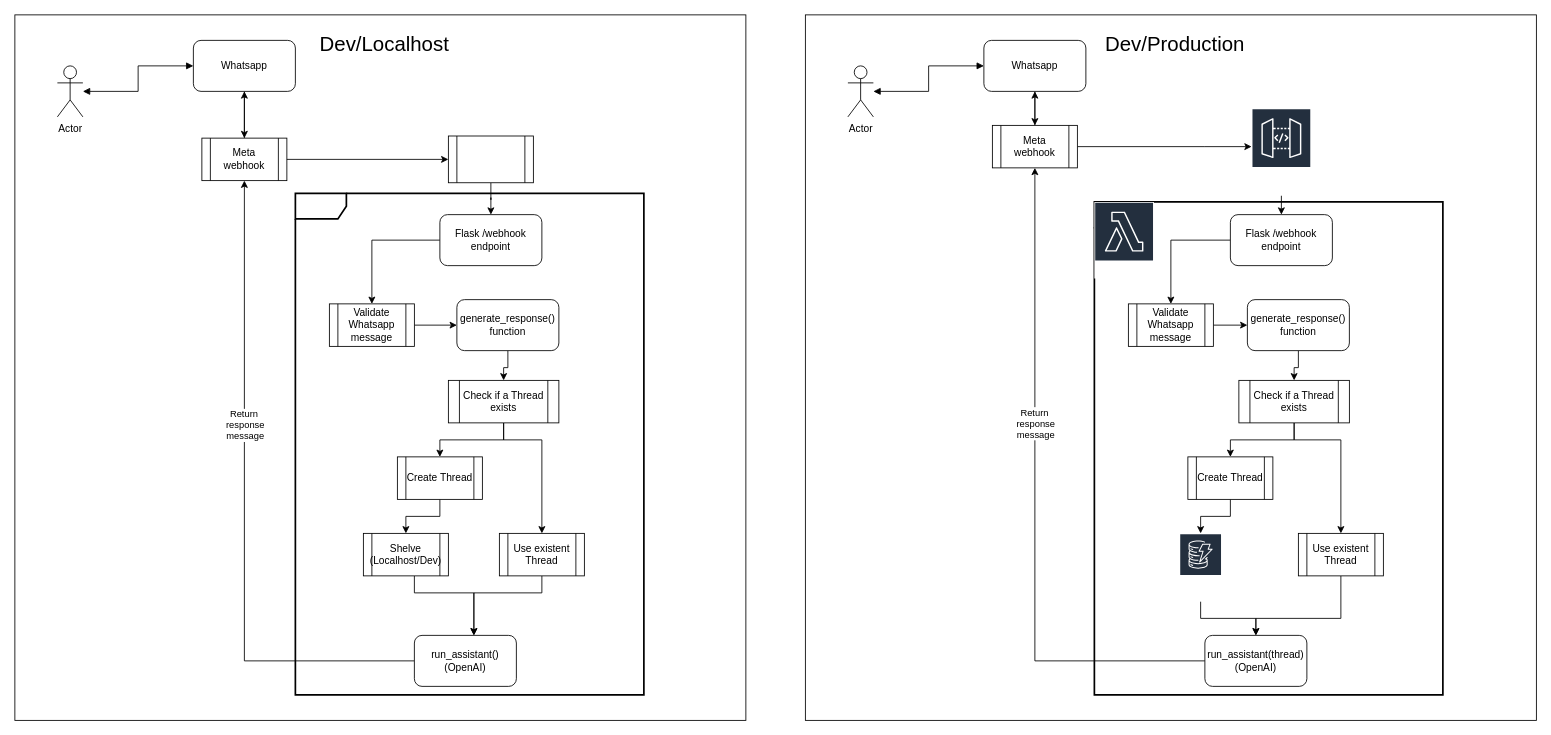
This 1551x735 diagram has some shape labels left out. The centre of each missing label's shape, as x and y in pixels:
"Amazon API Gateway" belongs at pixel 1281 152.
"Amazon DynamoDB" belongs at pixel 1200 567.
"AWS Lambda" belongs at pixel 1124 239.
"Ngork Domain" belongs at pixel 490 159.
"Python" belongs at pixel 469 443.
